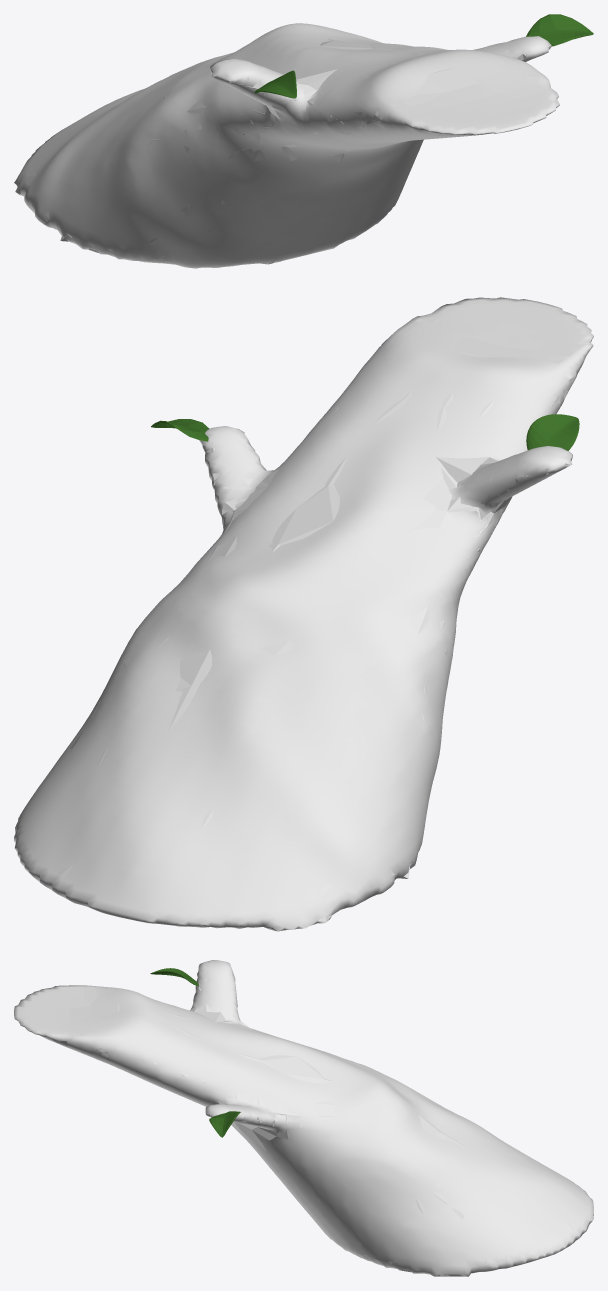
Rendered from trunk_ramp.fbx.
3 renders of one model, top to bottom at view 1: azimuth 30°, elevation 25°; view 2: azimuth 150°, elevation 25°; view 3: azimuth 270°, elevation 25°, orthographic. The views are drawn at different scales.
Parts seen in each view (by area): view 1: Cylinder, Trunk, Leaf.001, Leaf; view 2: Cylinder, Trunk, Leaf; view 3: Cylinder, Trunk, Leaf.001.
Part boxes in pixels (x1,y1,x2,y2): Cylinder: (14,23,559,268); Trunk: (16,38,549,266); Leaf.001: (526,14,593,46); Leaf: (254,70,296,98); Cylinder: (14,297,593,931); Trunk: (57,304,582,921); Leaf: (526,414,579,450); Cylinder: (14,960,593,1276); Trunk: (32,965,574,1276); Leaf.001: (209,1111,240,1137).
Size of the model in its own units: 471 by 340 by 844.
